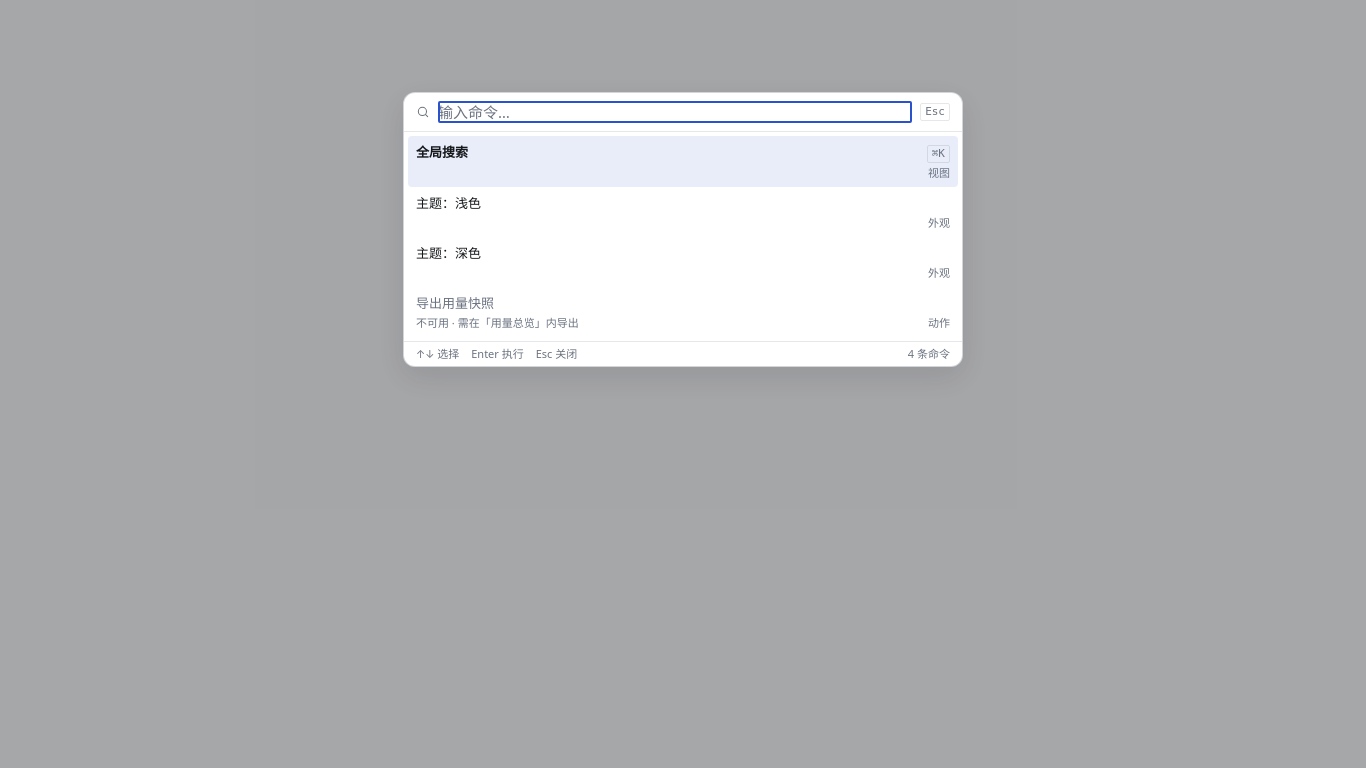
Test case: CommandPalette › 无匹配时给「没有匹配的命令」，不留空白列表
The width and height of the screenshot is (1366, 768).
In the dropdown named "搜索命令": (675, 112) x1=438 y1=101 x2=912 y2=123, type "zzz"
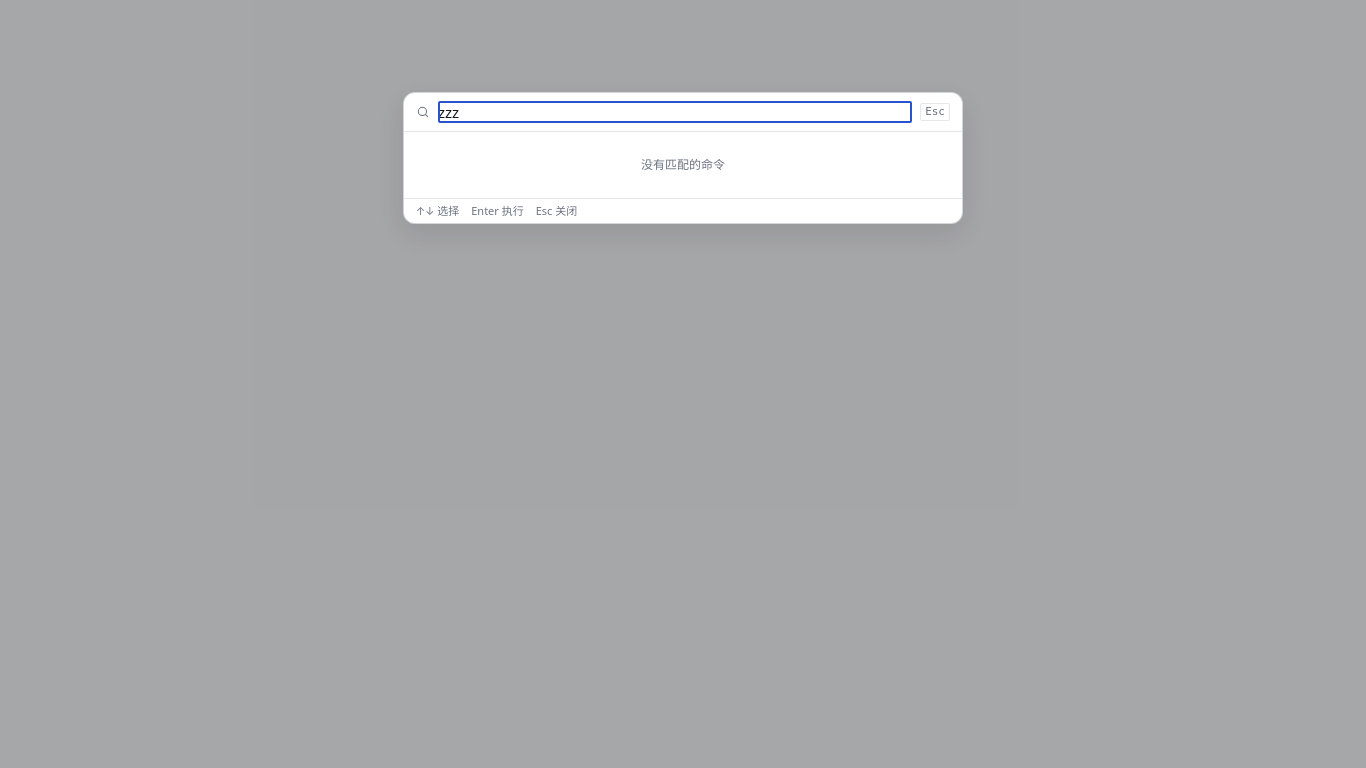
Expected: no options are shown
Expected: the text "没有匹配的命令" is shown, x1=641 y1=156 x2=725 y2=173
